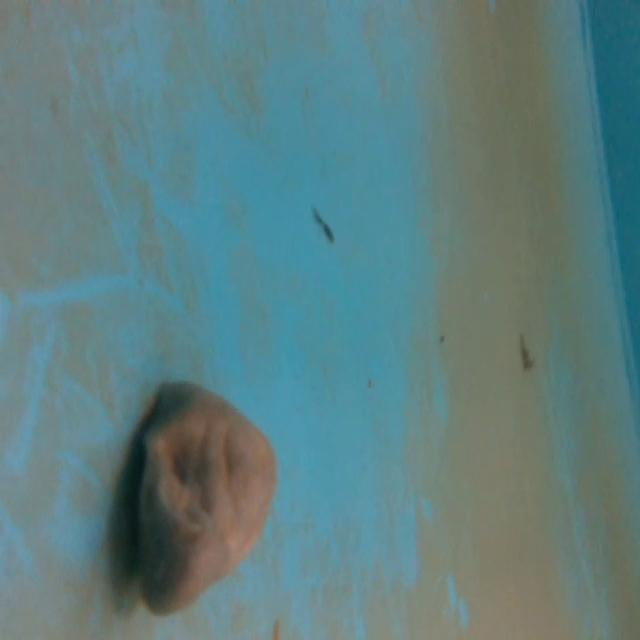rock: (124, 379, 286, 621)
